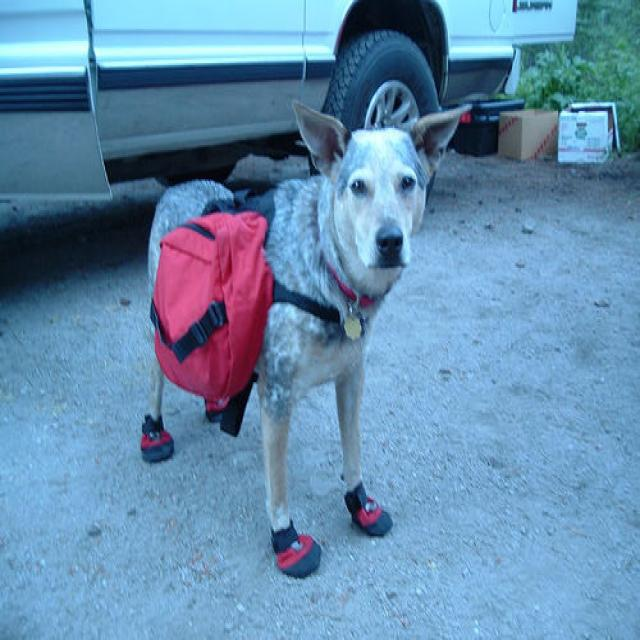Vehicle: (2, 2, 580, 198)
